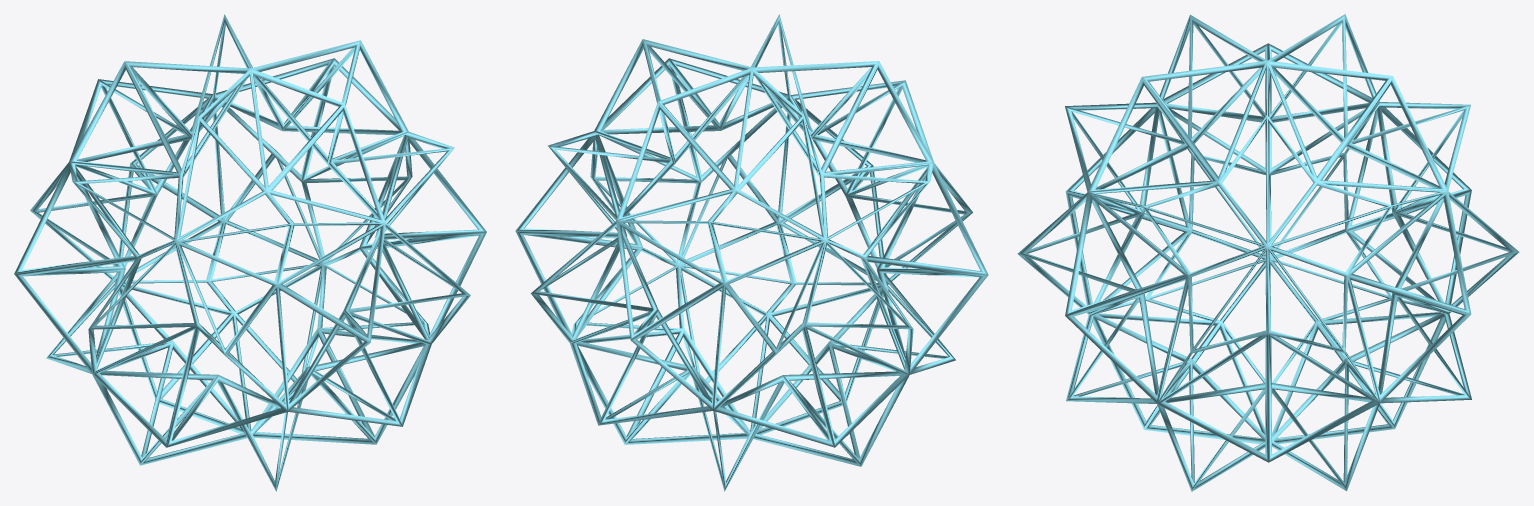
File: Mobius120a1.glb
3 views of the same model, side by side, from view 1: azimuth 30°, elevation 25°; view 2: azimuth 150°, elevation 25°; view 3: azimuth 270°, elevation 25° (orthographic). The views are drawn at different scales.
Parts seen in each view (by area): view 1: Mobius120a; view 2: Mobius120a; view 3: Mobius120a.
Part boxes in pixels (x1,y1,x2,y2): Mobius120a: (14,14,486,491); Mobius120a: (515,14,988,491); Mobius120a: (1017,14,1519,491).
Bounding box in the file's own units: 3.67 × 3.29 × 3.85.
